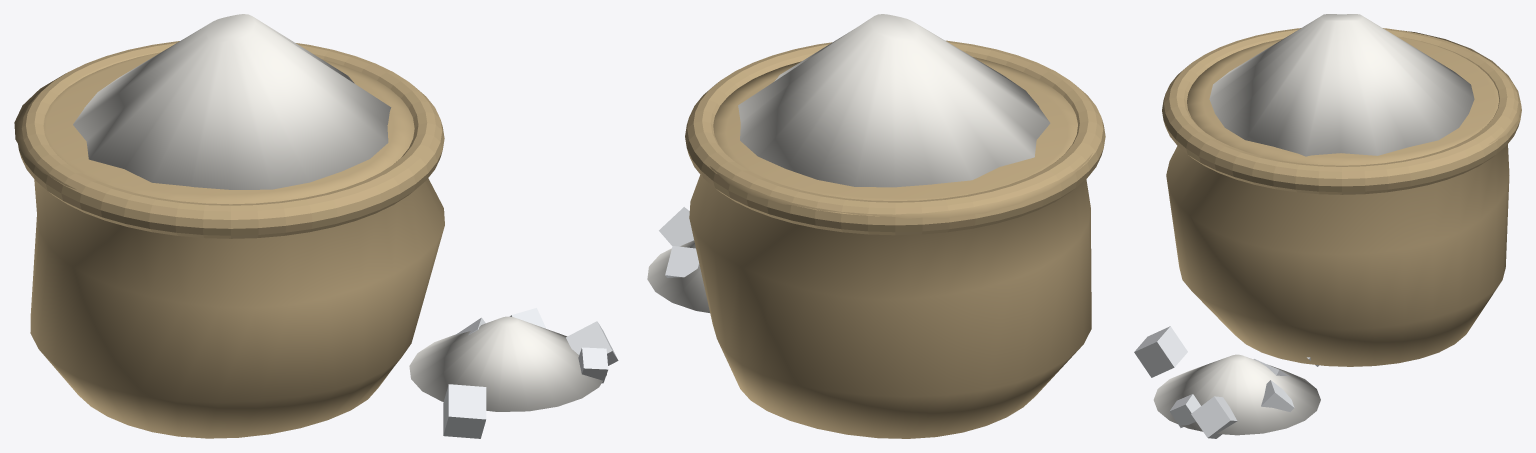
File: salz.glb
3 views of the same model, side by side, from view 1: azimuth 30°, elevation 25°; view 2: azimuth 150°, elevation 25°; view 3: azimuth 270°, elevation 25° (orthographic). The views are drawn at different scales.
Parts seen in each view (by area): view 1: beutel, Cone, Torus, Cone.001, Cube.006, Cube.005, Cube.001; view 2: beutel, Cone, Torus, Cone.001, Cube.003, Cube.005; view 3: beutel, Cone, Torus, Cone.001, Cube.006, Cube.005, Cube.003, Cube.001.
Part boxes in pixels (<box>): beutel: <box>14,52,444,438</box>; Cone: <box>73,14,391,189</box>; Torus: <box>18,41,444,238</box>; Cone.001: <box>409,316,606,411</box>; Cube.006: <box>443,384,486,438</box>; Cube.005: <box>566,321,618,365</box>; Cube.001: <box>578,347,608,383</box>; beutel: <box>689,57,1092,438</box>; Cone: <box>738,14,1050,187</box>; Torus: <box>685,40,1105,235</box>; Cone.001: <box>647,240,709,312</box>; Cube.003: <box>665,246,699,277</box>; Cube.005: <box>659,207,693,246</box>; beutel: <box>1166,31,1521,366</box>; Cone: <box>1209,14,1474,156</box>; Torus: <box>1162,28,1521,194</box>; Cone.001: <box>1153,354,1320,435</box>; Cube.006: <box>1134,326,1187,377</box>; Cube.005: <box>1191,396,1237,438</box>; Cube.003: <box>1261,380,1294,411</box>; Cube.001: <box>1169,394,1200,427</box>.
Size of the model in its own units: 0.229 by 0.1642 by 0.1853.
